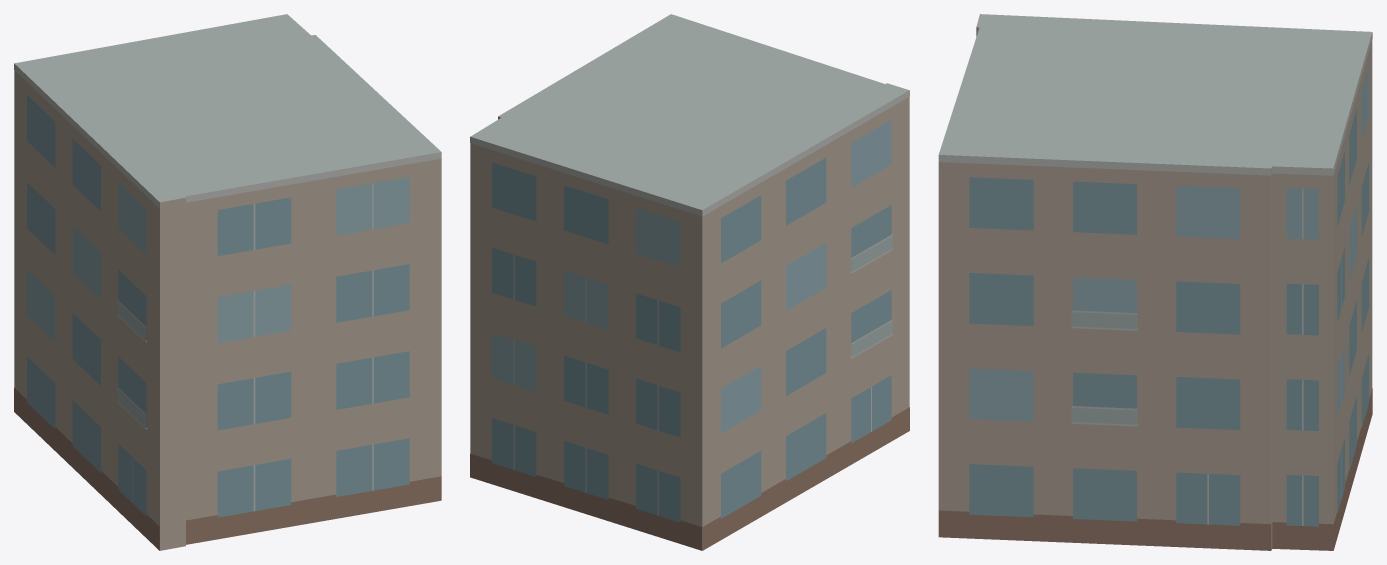
The model's file is survey-upis-32639647.glb.
3 views of the same model, side by side, from view 1: azimuth 30°, elevation 25°; view 2: azimuth 150°, elevation 25°; view 3: azimuth 270°, elevation 25° (orthographic). The views are drawn at different scales.
Visible parts, largest first — view 1: survey-upis-32639647.tmp; view 2: survey-upis-32639647.tmp; view 3: survey-upis-32639647.tmp.
Part boxes in pixels (x1,y1,x2,y2): survey-upis-32639647.tmp: (14, 14, 441, 550); survey-upis-32639647.tmp: (470, 14, 909, 550); survey-upis-32639647.tmp: (938, 14, 1372, 550).
Size of the model in its own units: 11.32 by 13.05 by 13.43.
